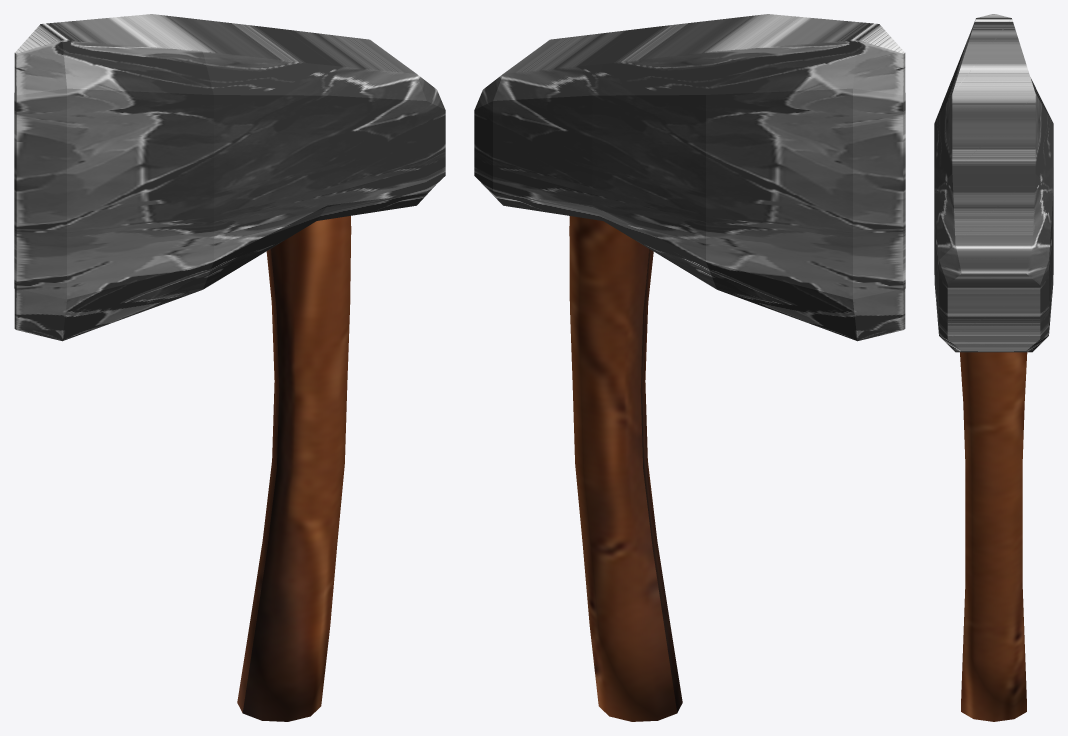
File: asset.glb
The picture shows the model from 3 angles, left to right: view 1: azimuth 30°, elevation 25°; view 2: azimuth 150°, elevation 25°; view 3: azimuth 270°, elevation 25°; orthographic projection. The views are drawn at different scales.
Visible parts, largest first — view 1: AxeBlade, RecoveredHandle; view 2: AxeBlade, RecoveredHandle; view 3: AxeBlade, RecoveredHandle.
Boxes of the visible parts, x1,y1,x2,y2 form: AxeBlade: (14,14,445,341); RecoveredHandle: (237,216,351,721); AxeBlade: (474,14,905,341); RecoveredHandle: (569,216,682,721); AxeBlade: (934,14,1053,352); RecoveredHandle: (960,352,1027,721).
Size of the model in its own units: 0.9014 by 1.56 by 0.2825.
2 materials, 2 textured.
